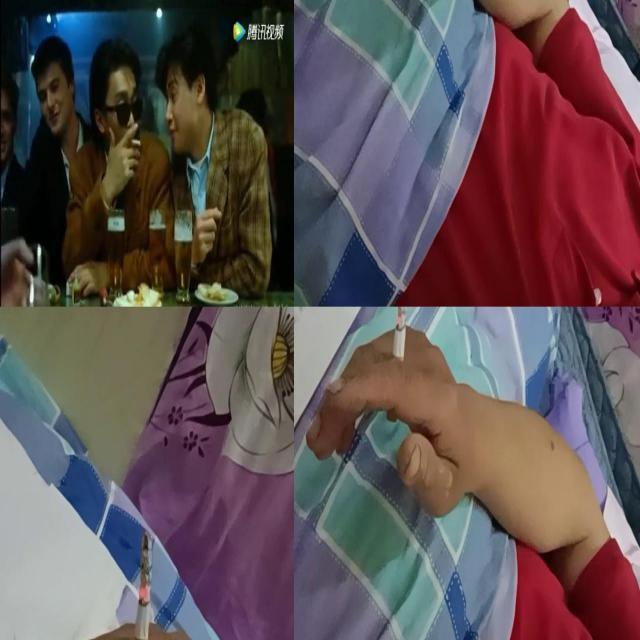cigarette: (386, 306, 408, 424), (130, 533, 154, 639), (130, 136, 142, 148)
